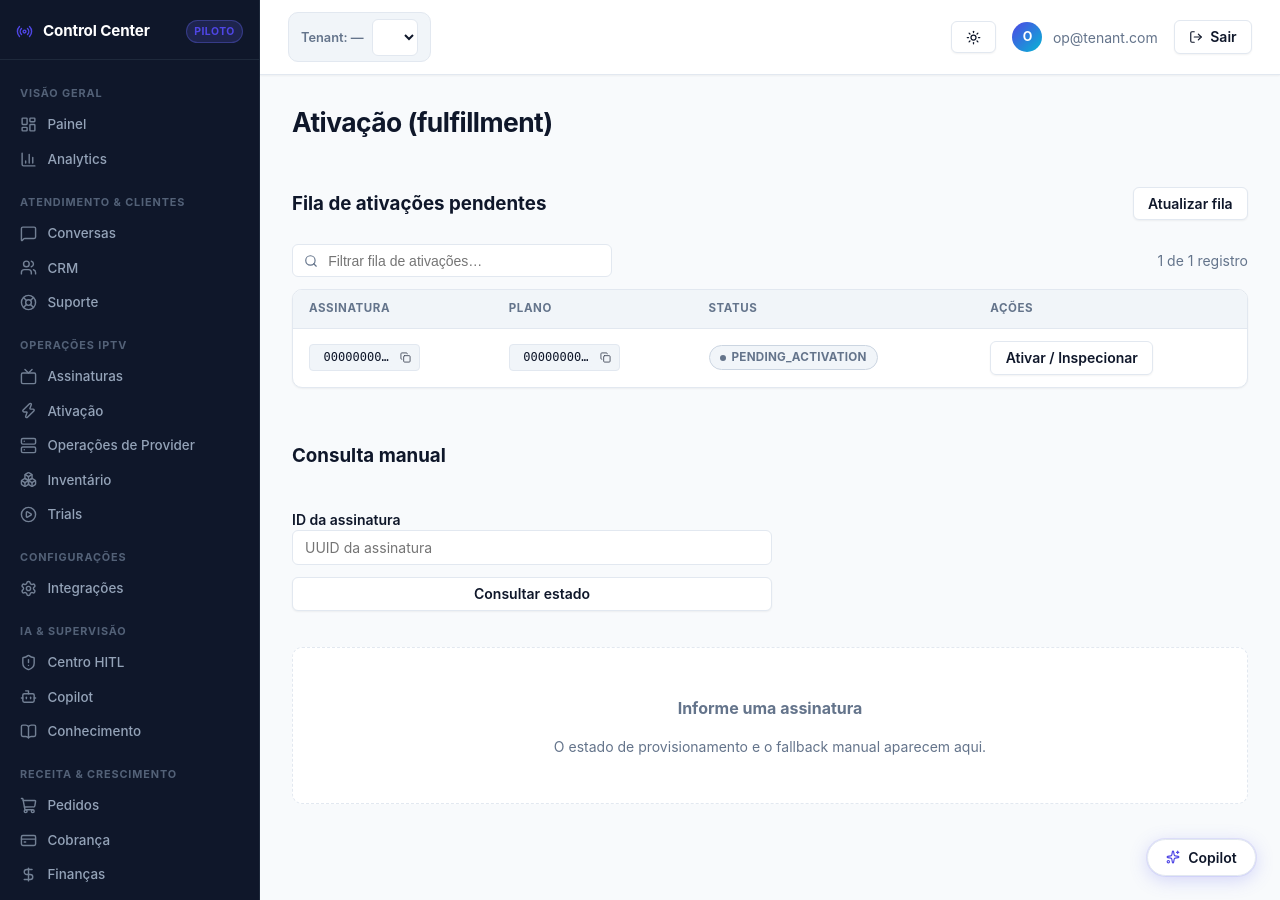
Test: FulfillmentPage › sem permissão de escrita subscription.write, permite visualizar fila e consultar sem botão de mutação
Expected: the heading "Ativação (fulfillment)" is shown, [292,106,553,138]
Expected: the text "PENDING_ACTIVATION" is shown, [708,345,878,370]
Step 1. Click the button "Ativar / Inspecionar" → (1072, 358), box [990,341,1153,375]
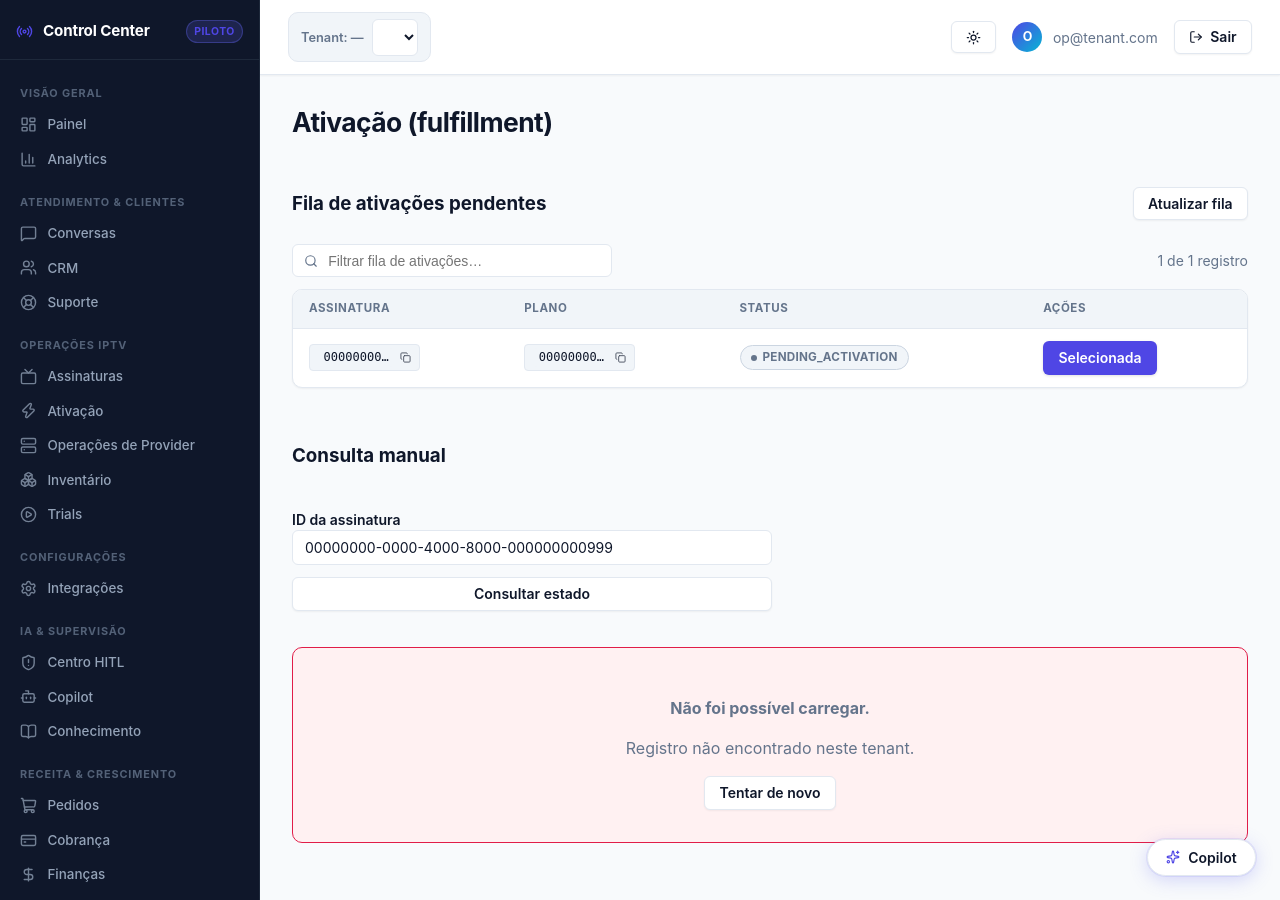
Now the message is shown, box [292,647,1248,843]
